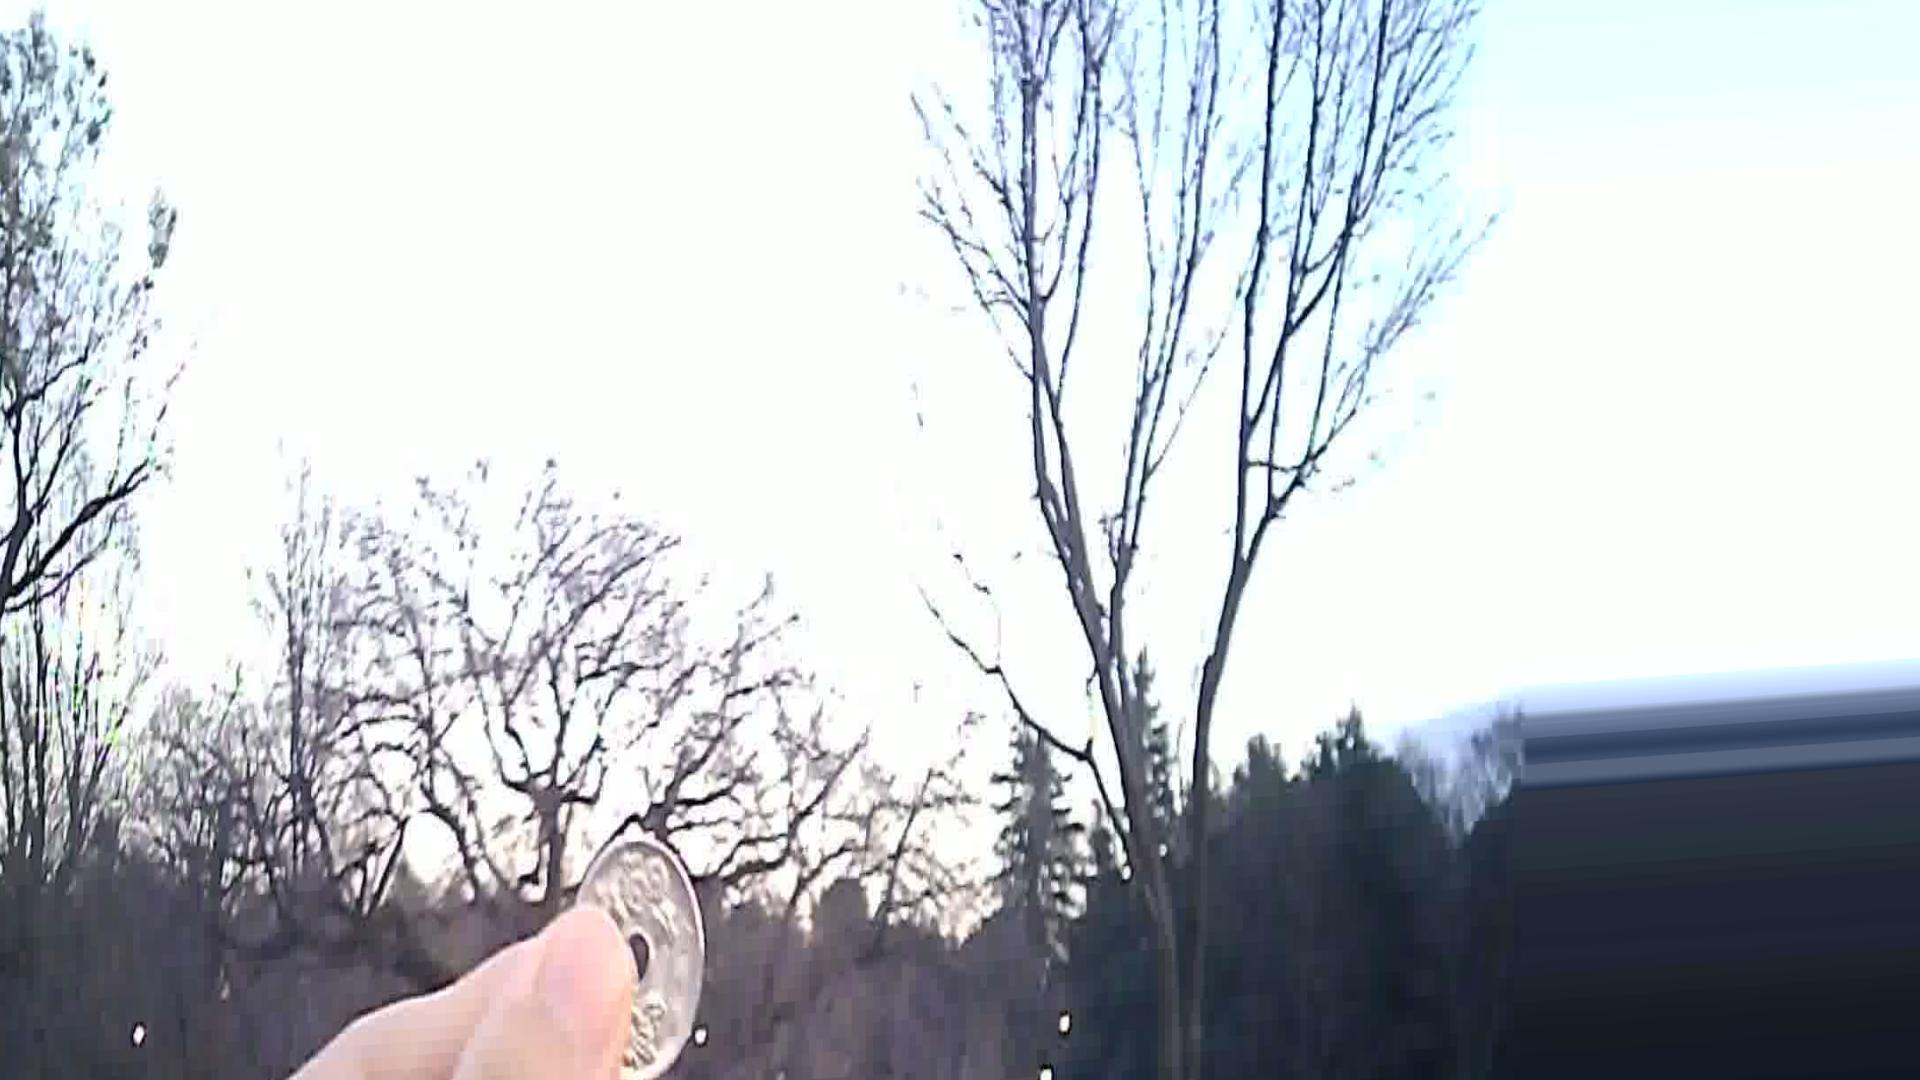50 Yen: (551, 832, 699, 1079)
